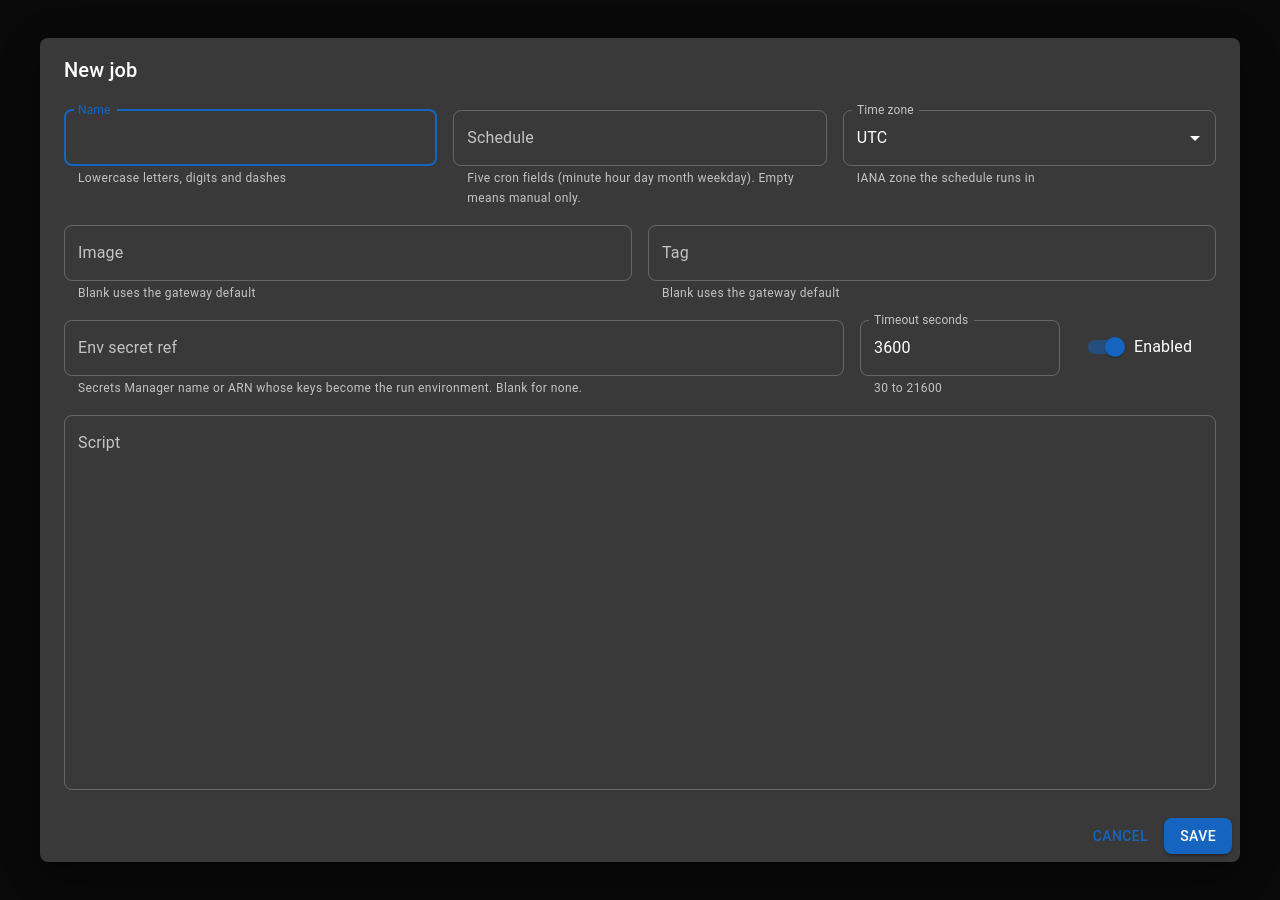
Test: JobFormDialog create › requires a name
Step 1. Type "echo hi" into the text box labelled "Script" → [640, 602], box x1=78 y1=431 x2=1202 y2=773
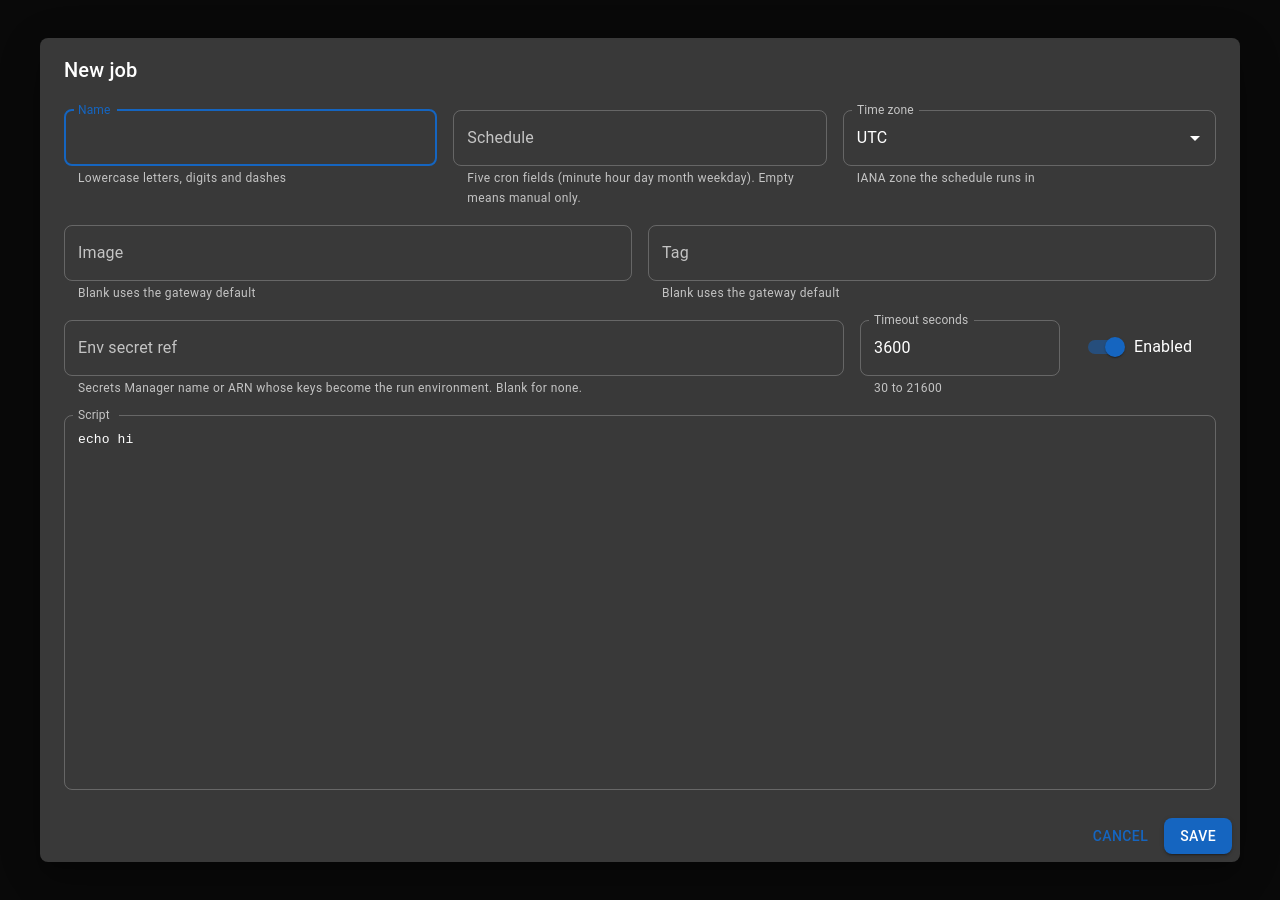
Step 2. Click the button "Save" → [1198, 836], box x1=1164 y1=818 x2=1232 y2=854
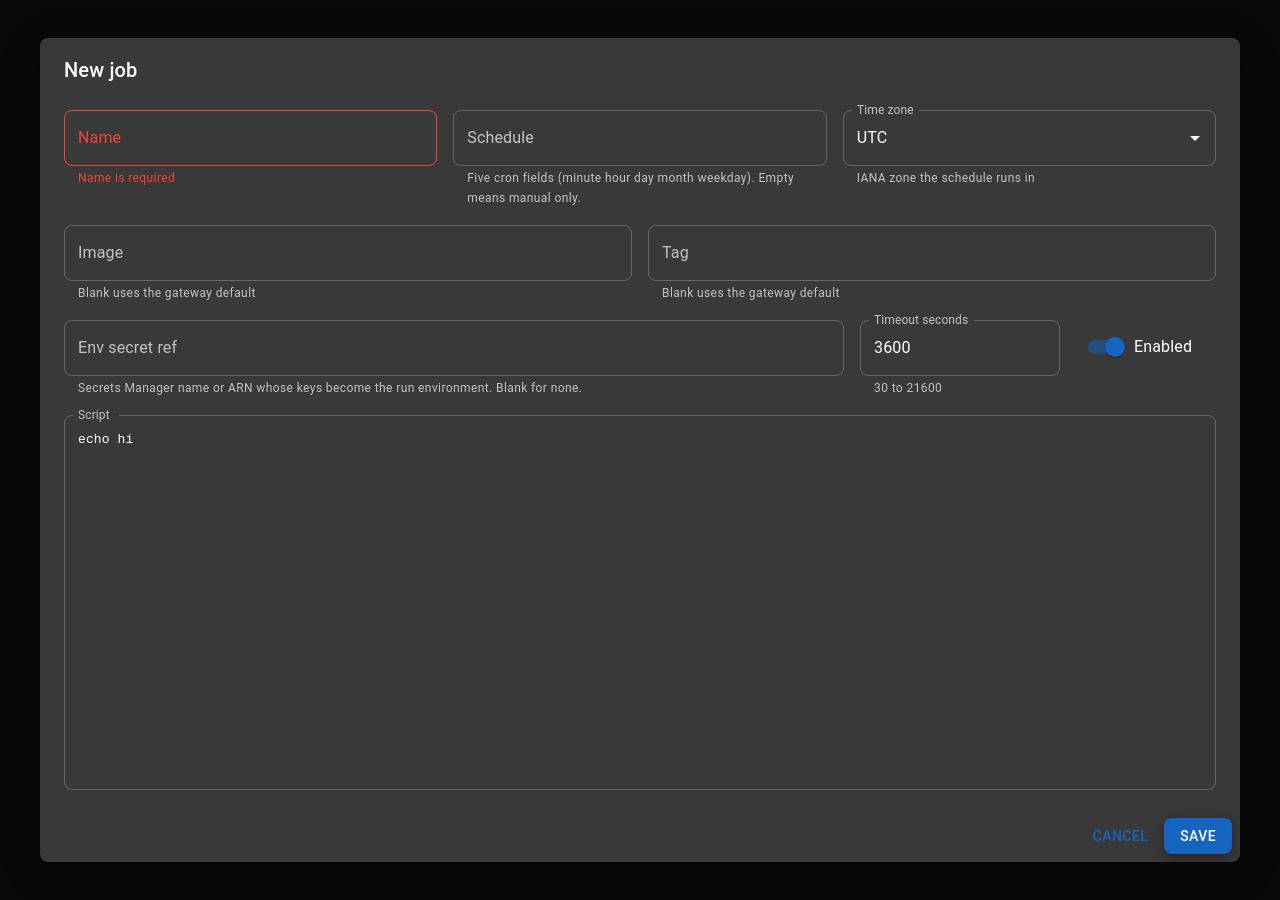
Now the text "Name is required" is shown, box x1=78 y1=171 x2=175 y2=185
